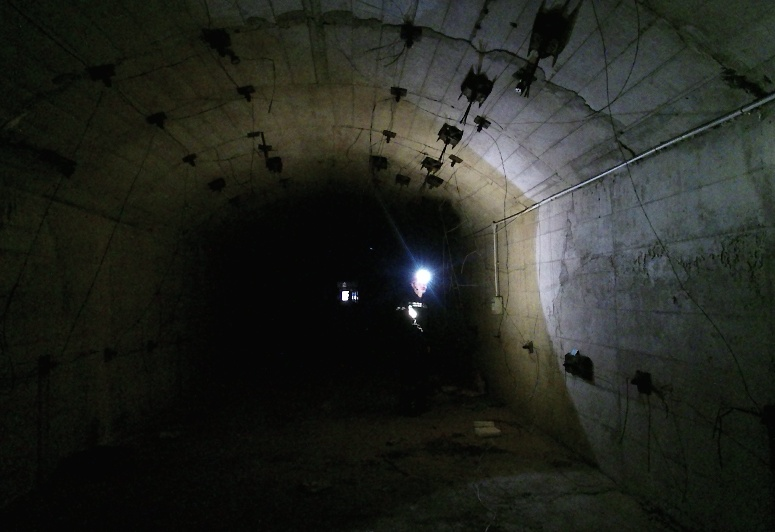person: (388, 272, 437, 419)
